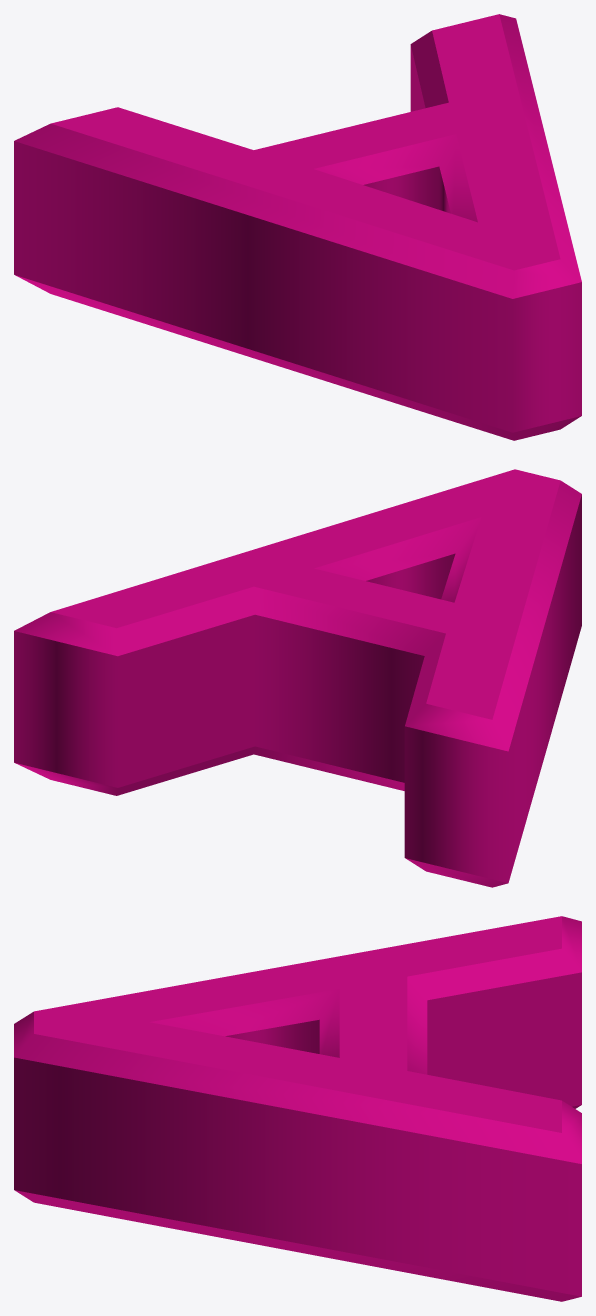
The picture shows the model from 3 angles, top to bottom: view 1: azimuth 30°, elevation 25°; view 2: azimuth 150°, elevation 25°; view 3: azimuth 270°, elevation 25°; orthographic projection.
Parts seen in each view (by area): view 1: Text; view 2: Text; view 3: Text.
Boxes of the visible parts, box(x1,y1,x2,y2) form: Text: box(14, 14, 581, 440); Text: box(14, 469, 581, 887); Text: box(14, 916, 581, 1301).
Size of the model in its own units: 0.7464 by 0.738 by 0.242.
